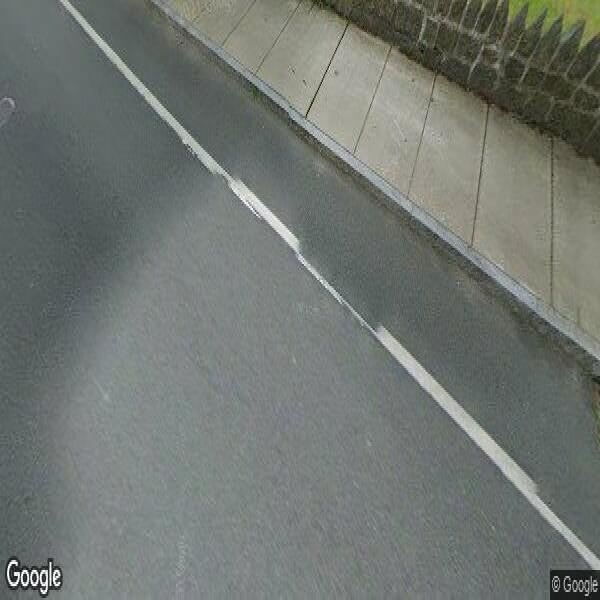manhole: (0, 90, 20, 136)
